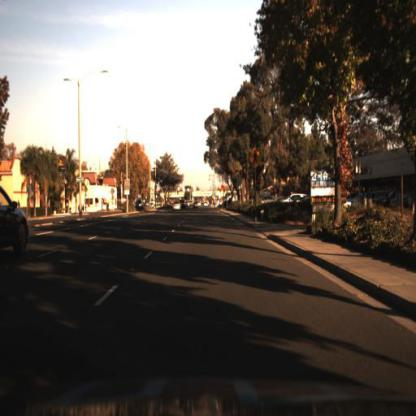car: (1, 179, 32, 271), (281, 188, 314, 206), (132, 194, 148, 216), (170, 199, 183, 215)
